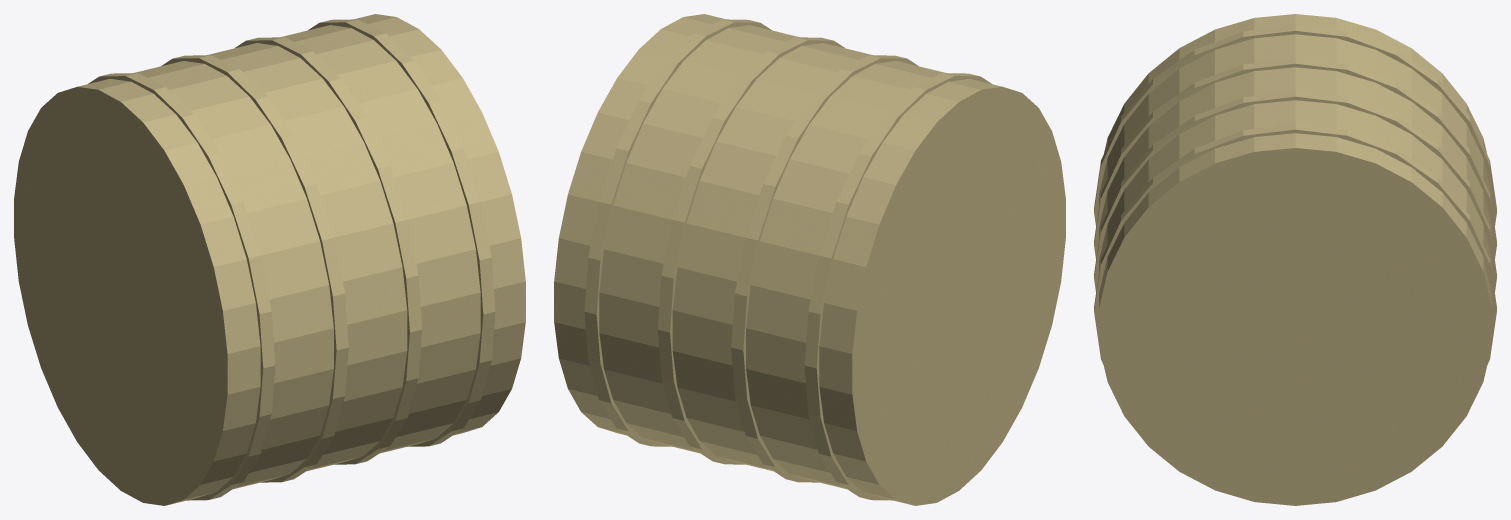
Rendered from farm-and-working-animals-hd-hay-bale-round-e1b0854b__29213.glb.
3 views of the same model, side by side, from view 1: azimuth 30°, elevation 25°; view 2: azimuth 150°, elevation 25°; view 3: azimuth 270°, elevation 25° (orthographic). The views are drawn at different scales.
Parts seen in each view (by area): view 1: hay-bale-round; view 2: hay-bale-round; view 3: hay-bale-round.
Part boxes in pixels (box(x1,y1,x2,y2)): hay-bale-round: box(14, 14, 525, 505); hay-bale-round: box(554, 14, 1065, 505); hay-bale-round: box(1094, 14, 1496, 505).
Bounding box in the file's own units: 1.22 × 1.55 × 1.55.
1 material, 1 textured.
